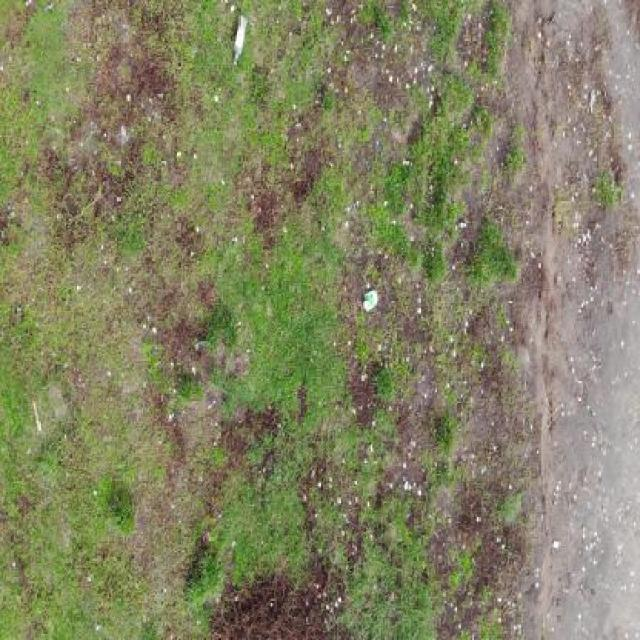Garbage: (232, 14, 251, 67), (362, 287, 379, 313)
